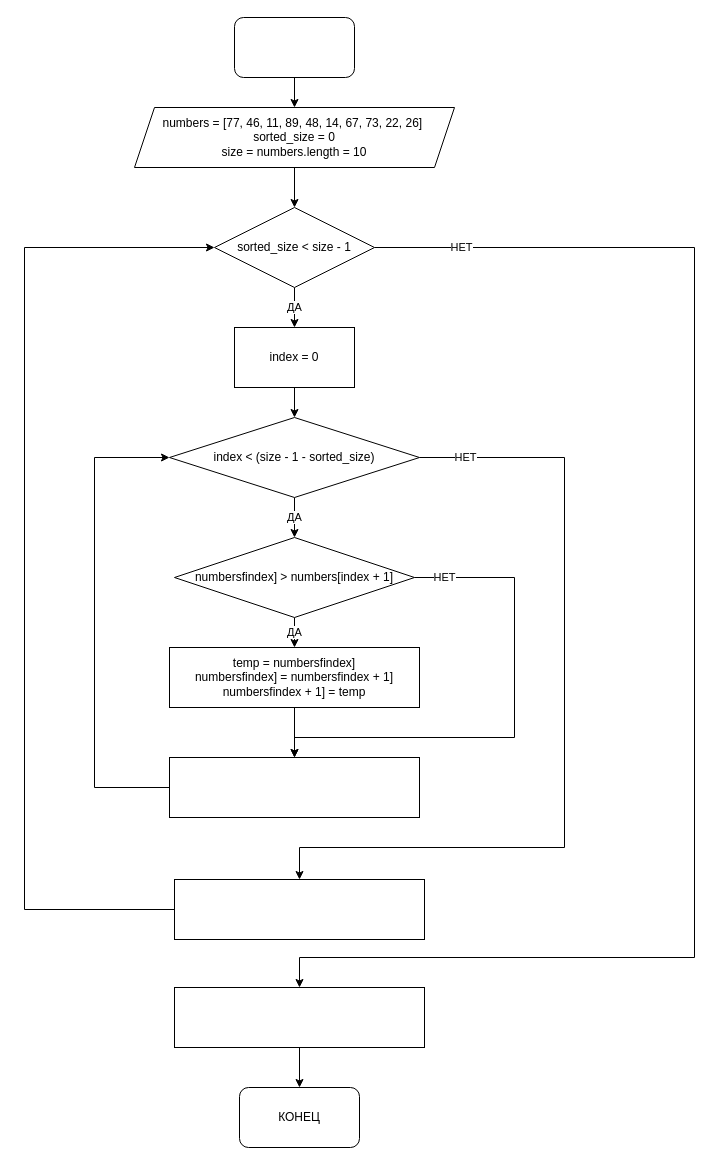
This 720x1165 diagram has some shape labels left out. The centre of each missing label's shape, as x and y in pixels:
index = index + 1: (294,787)
print(numbers): (299,1017)
sorted_size = sorted_size + 1: (299,909)
НАЧАЛО: (294,47)
